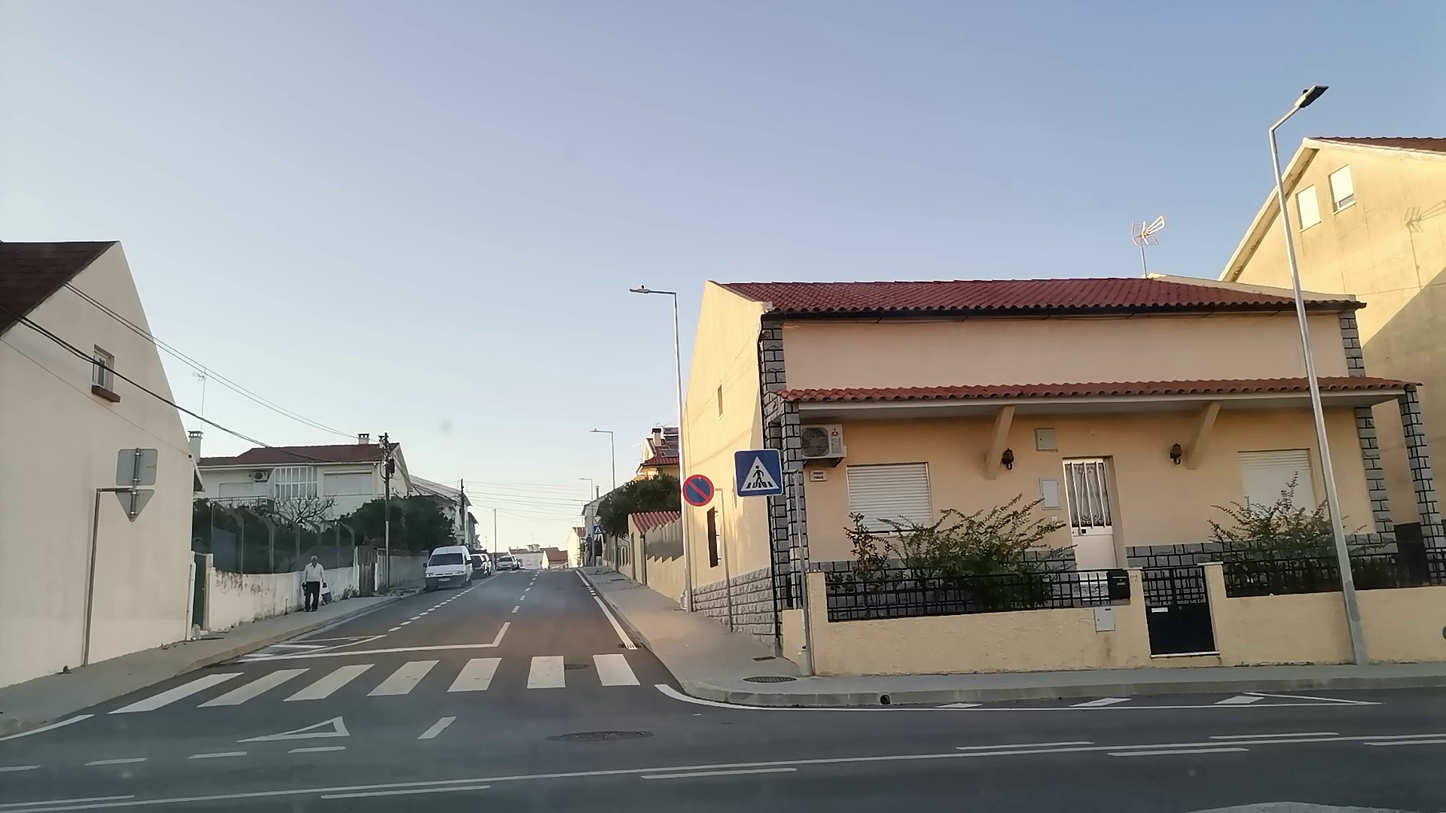Stairs: (188, 655, 653, 703)
